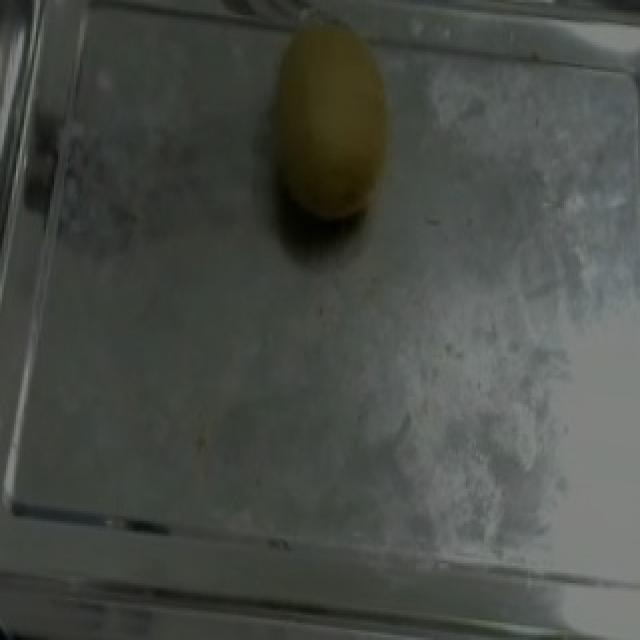Fruit: (242, 3, 416, 253)
